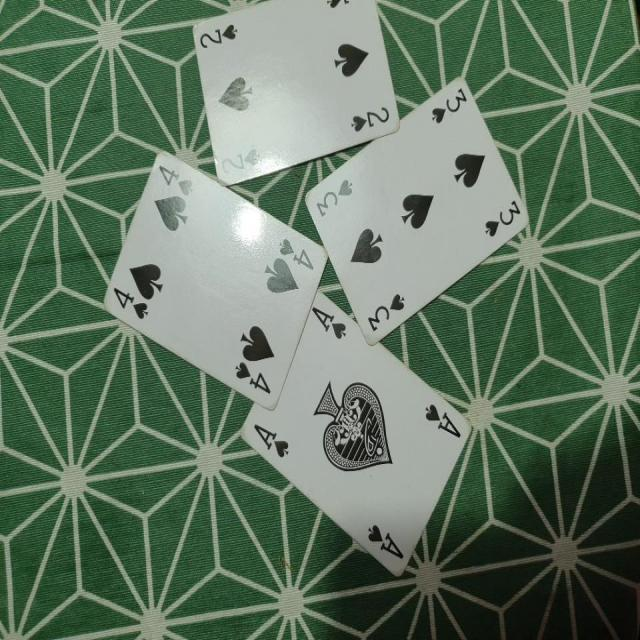2 of spades: (164, 6, 408, 193)
3 of spades: (301, 71, 538, 342)
4 of spades: (86, 140, 330, 410)
ace of spades: (231, 292, 478, 586)
